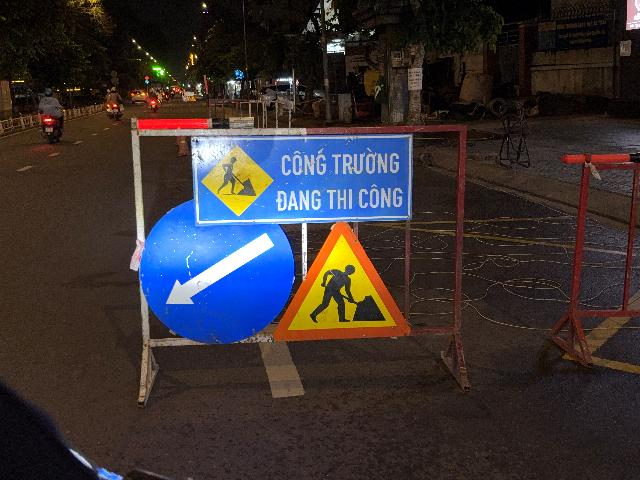cong-truong-dang-thi-cong: (274, 221, 411, 342)
huong-phai-di-vong-chuong-ngai-vat: (139, 198, 294, 345)
